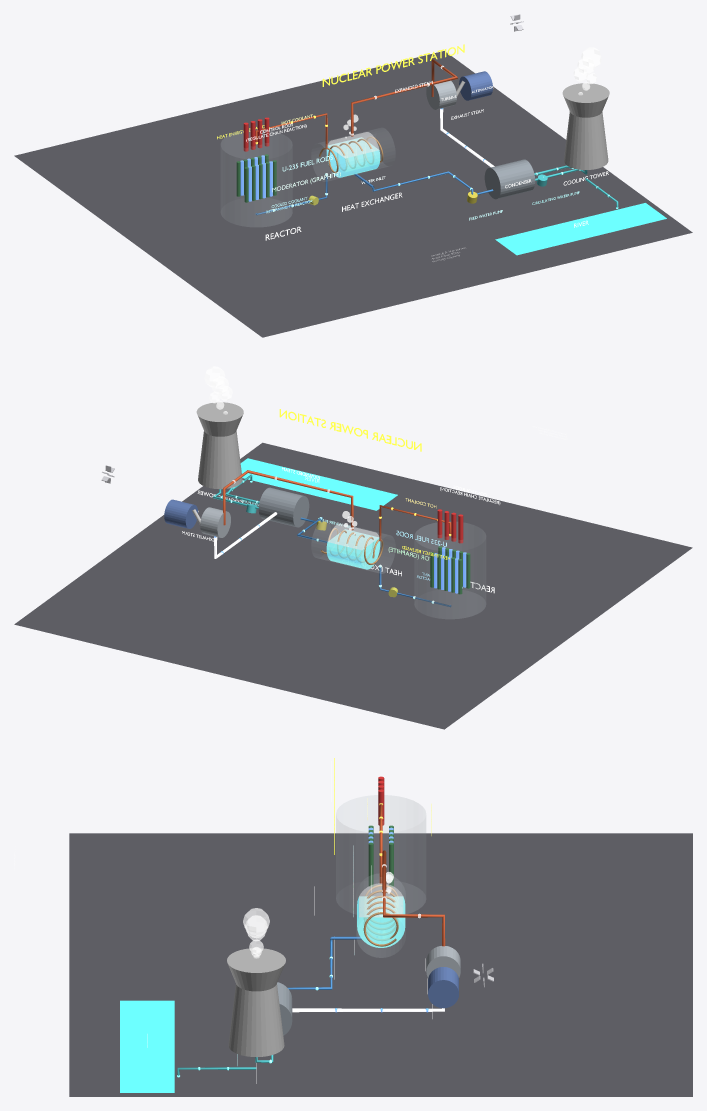
The model's file is Nuclear_Power_Station_VR_v3.glb.
3 views of the same model, one above another, from view 1: azimuth 30°, elevation 25°; view 2: azimuth 150°, elevation 25°; view 3: azimuth 270°, elevation 25° (orthographic). The views are drawn at different scales.
Visible parts, largest first — view 1: Ground, PressureVessel, River, CoolingTower, Condenser, HXWaterFill, HXTank, CoolingTowerTop, HXSteamFillVisual, Alternator, TurbineHousing, Label_MAIN_TITLE (+2 smaller); view 2: Ground, PressureVessel, River, CoolingTower, Condenser, HXWaterFill, HXTank, CoolingTowerTop, HXSteamFillVisual, Alternator, TurbineHousing, Label_MAIN_TITLE (+1 smaller); view 3: Ground, PressureVessel, River, CoolingTower, CoolingTowerTop, HXWaterFill, HXTank, Alternator, HXSteamFillVisual, HXCoil, TurbineHousing, SteamPipe (+3 smaller).
Boxes of the visible parts, x1,y1,x2,y2 form: Ground: (14, 51, 692, 337); PressureVessel: (221, 130, 292, 226); River: (495, 203, 666, 255); CoolingTower: (564, 111, 608, 169); Condenser: (484, 159, 535, 199); HXWaterFill: (326, 137, 380, 177); HXTank: (311, 128, 395, 181); CoolingTowerTop: (562, 83, 609, 117); HXSteamFillVisual: (328, 132, 378, 158); Alternator: (459, 71, 492, 100); TurbineHousing: (426, 80, 456, 109); Label_MAIN_TITLE: (322, 44, 464, 86); Ground: (14, 442, 692, 729); PressureVessel: (414, 521, 485, 618); River: (240, 458, 397, 510); CoolingTower: (198, 431, 242, 489); Condenser: (258, 487, 309, 527); HXWaterFill: (326, 529, 380, 569); HXTank: (311, 520, 395, 573); CoolingTowerTop: (196, 402, 243, 436); HXSteamFillVisual: (328, 524, 378, 549); Alternator: (164, 499, 198, 528); TurbineHousing: (200, 507, 230, 537); Label_MAIN_TITLE: (279, 409, 421, 451); Ground: (69, 833, 692, 1096); PressureVessel: (336, 795, 425, 913); River: (120, 1000, 174, 1092); CoolingTower: (228, 984, 284, 1057); CoolingTowerTop: (227, 948, 285, 991); HXWaterFill: (357, 896, 405, 947); HXTank: (356, 874, 405, 957); Alternator: (428, 967, 458, 1008); HXSteamFillVisual: (359, 883, 402, 916); HXCoil: (363, 884, 398, 946); TurbineHousing: (426, 946, 460, 977); SteamPipe: (382, 850, 445, 946).
Size of the model in its own units: 40 by 13.23 by 43.55.
